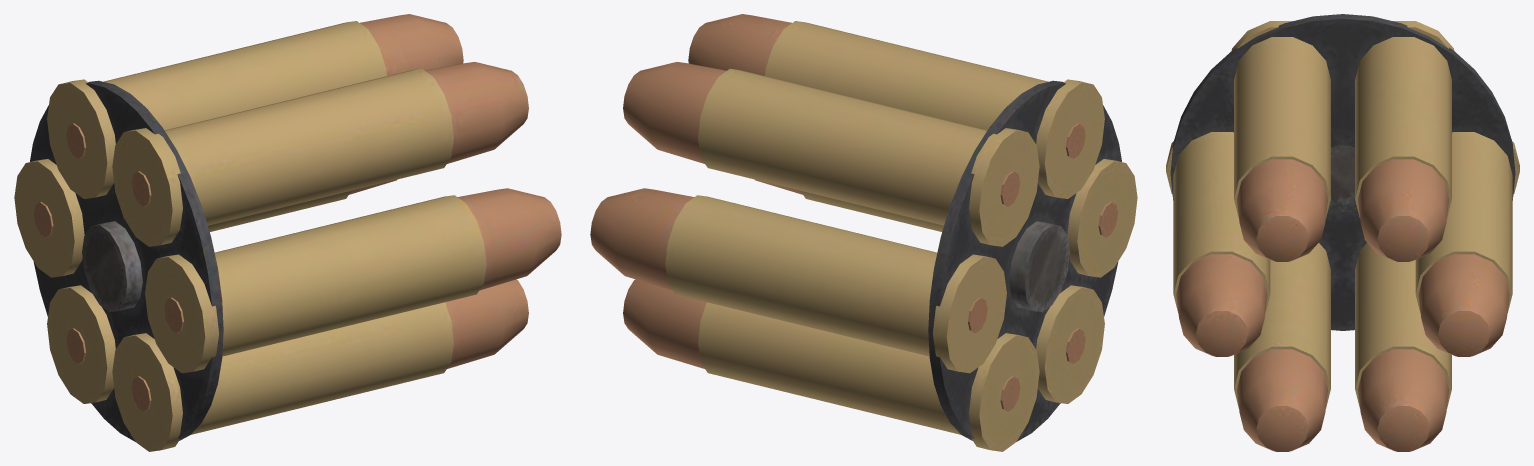
Rendered from speedloader_ring.glb.
3 renders of one model, left to right at view 1: azimuth 30°, elevation 25°; view 2: azimuth 150°, elevation 25°; view 3: azimuth 270°, elevation 25°, orthographic. The views are drawn at different scales.
Parts seen in each view (by area): view 1: speedloader_ring; view 2: speedloader_ring; view 3: speedloader_ring.
Part boxes in pixels (x1,y1,x2,y2): speedloader_ring: (14, 14, 561, 451); speedloader_ring: (590, 14, 1137, 451); speedloader_ring: (1166, 14, 1519, 451).
Bounding box in the file's own units: 0.0444 × 0.037 × 0.038.
Materials: 1 (1 with a texture image).
